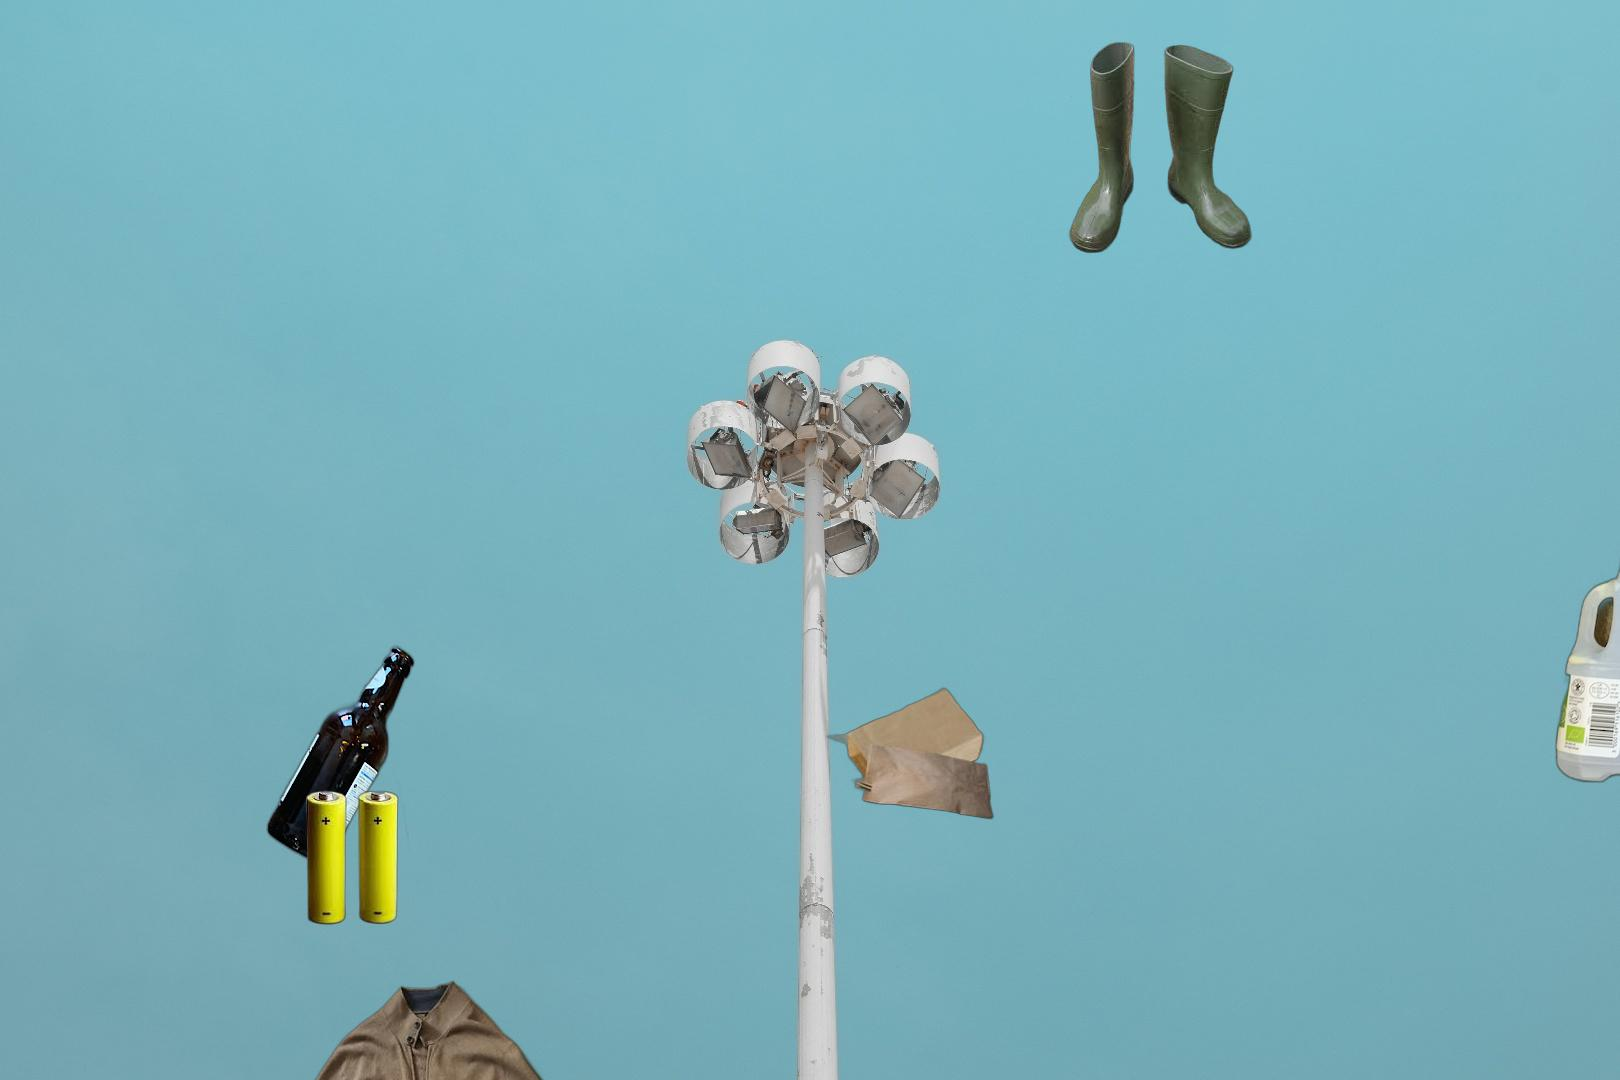battery: (304, 787, 401, 927)
clothes: (221, 976, 614, 1080)
glass: (263, 642, 419, 869)
paper-bag: (824, 685, 996, 822)
plastic-bottles: (1551, 546, 1620, 791)
shoes: (1067, 40, 1254, 256)
